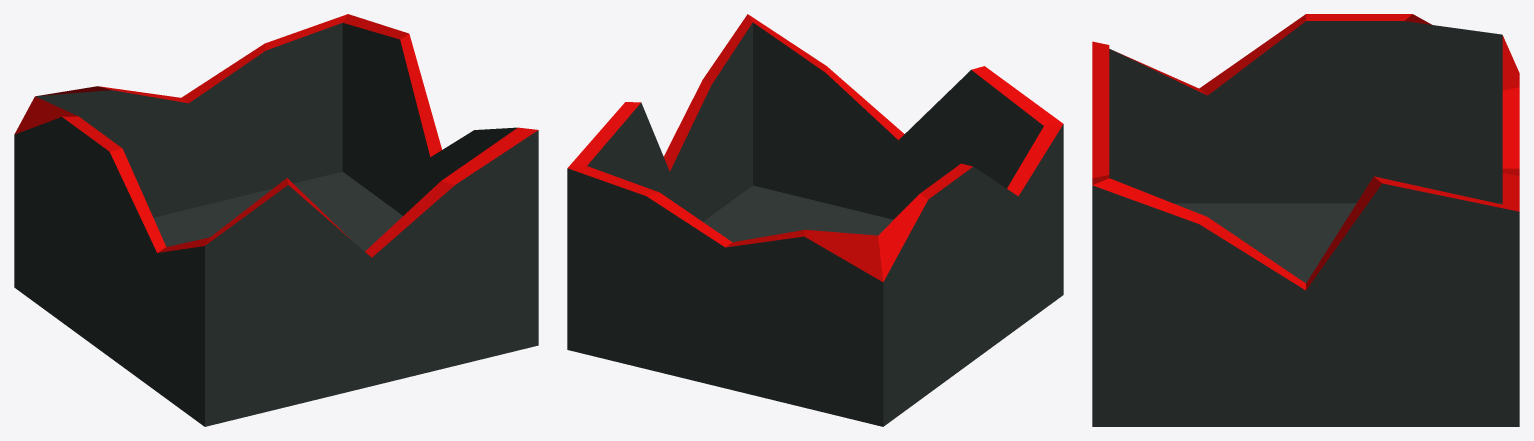
File: SM_Crate_Broken.fbx
3 views of the same model, side by side, from view 1: azimuth 30°, elevation 25°; view 2: azimuth 150°, elevation 25°; view 3: azimuth 270°, elevation 25° (orthographic). The views are drawn at different scales.
Visible parts, largest first — view 1: SM_Crate_Broken; view 2: SM_Crate_Broken; view 3: SM_Crate_Broken.
Part boxes in pixels (x1,y1,x2,y2): SM_Crate_Broken: (14, 14, 538, 426); SM_Crate_Broken: (567, 14, 1063, 426); SM_Crate_Broken: (1092, 14, 1519, 426).
Size of the model in its own units: 39.03 by 39.48 by 25.05.
